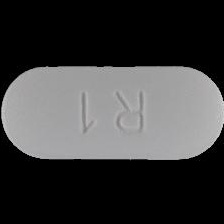53808-0783: (0, 0, 224, 224)
